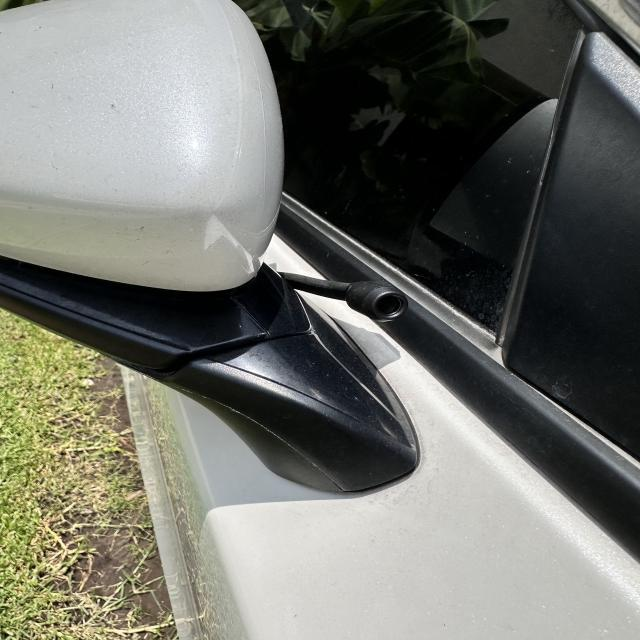hidden camera: (369, 293, 408, 320)
